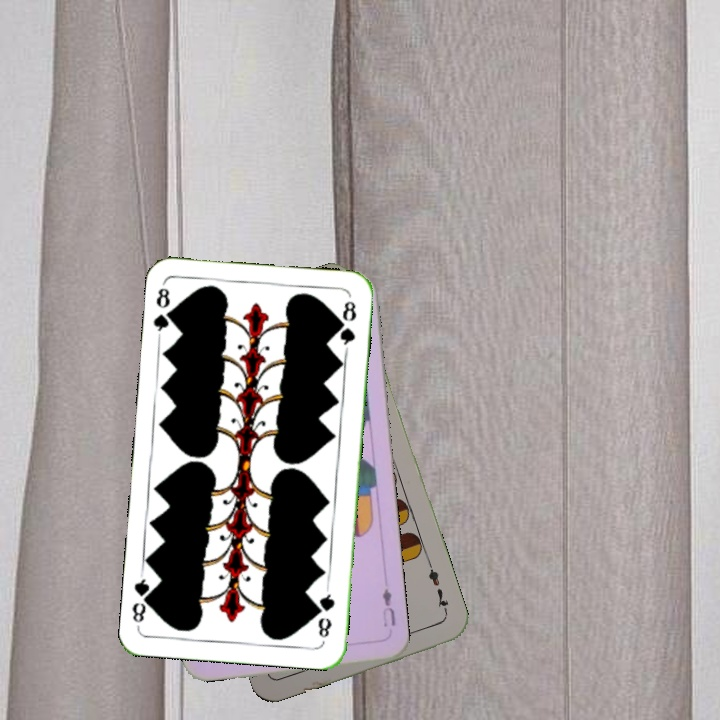E7: (424, 561, 452, 618)
EU: (378, 584, 398, 630)
G8: (149, 281, 178, 340), (314, 584, 338, 640)
